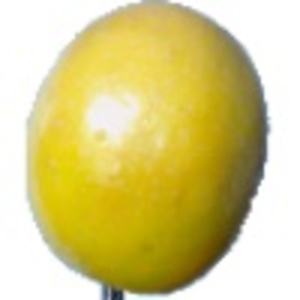maracujá: (23, 1, 272, 300)
